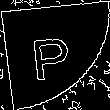P_N: (32, 28, 78, 82)
